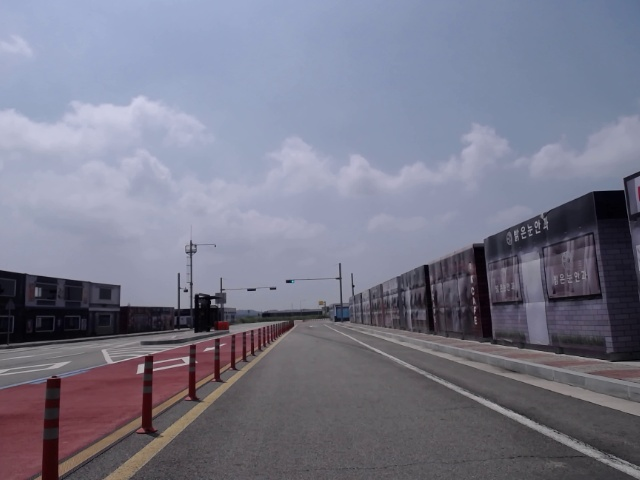green_3: (285, 279, 293, 284)
